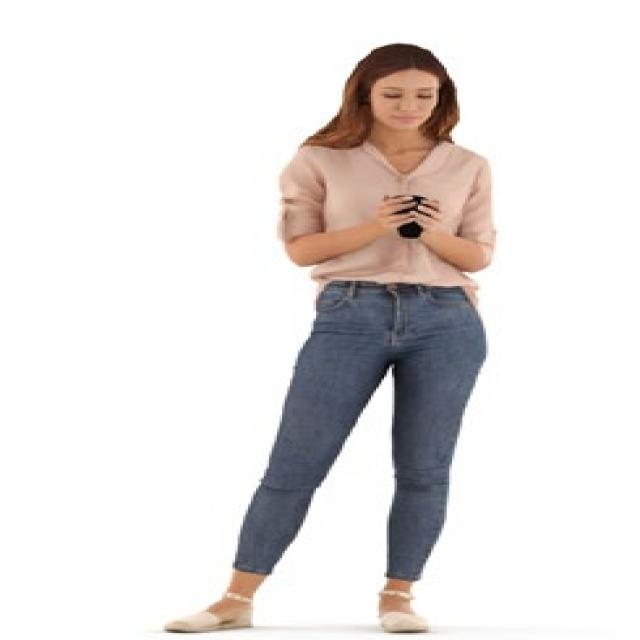standing: (161, 41, 504, 639)
